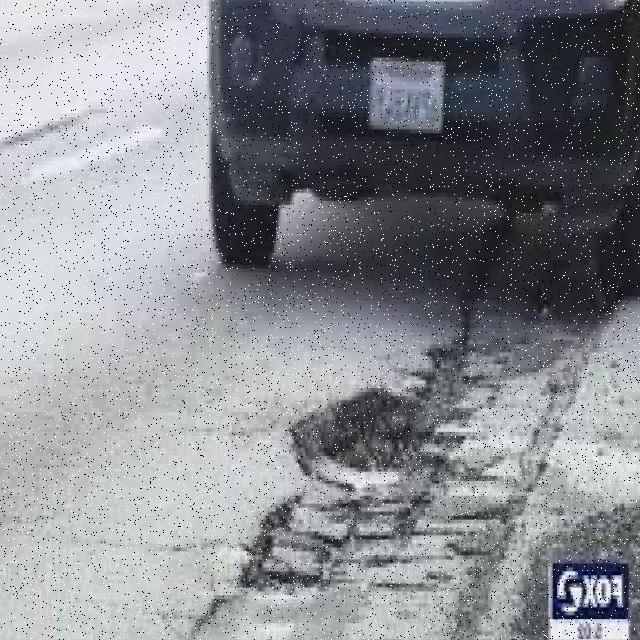pothole: (247, 316, 595, 587)
